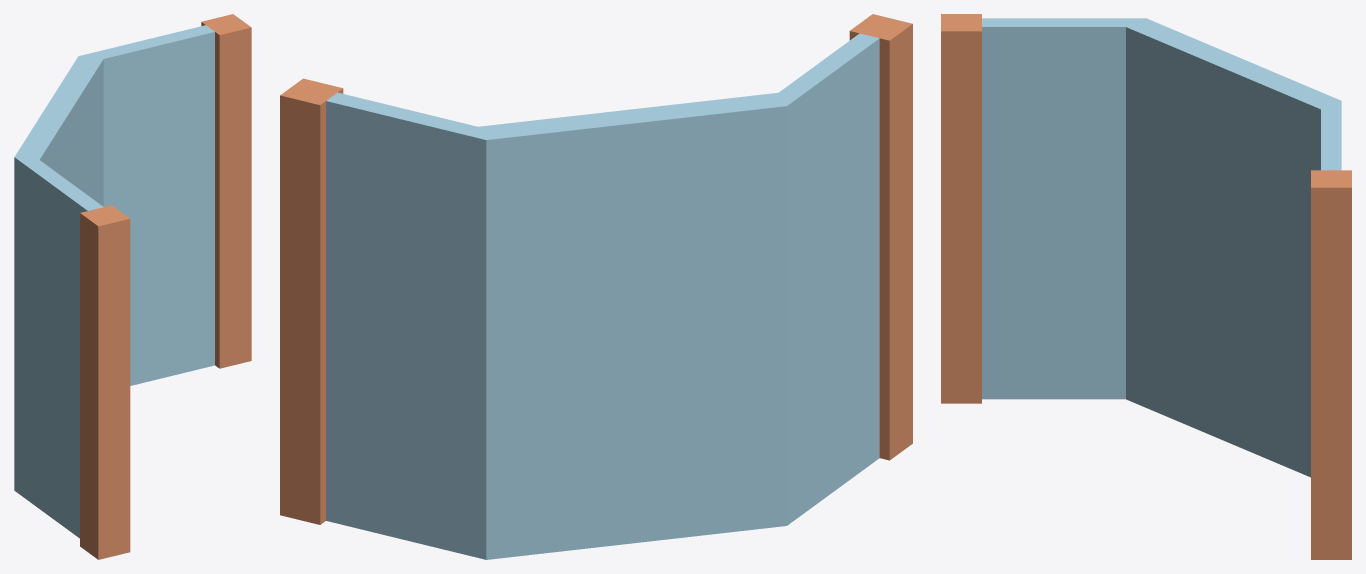
Rendered from wallCornerDiagonal.glb.
3 views of the same model, side by side, from view 1: azimuth 30°, elevation 25°; view 2: azimuth 150°, elevation 25°; view 3: azimuth 270°, elevation 25° (orthographic). The views are drawn at different scales.
Parts seen in each view (by area): view 1: wallCornerDiagonal; view 2: wallCornerDiagonal; view 3: wallCornerDiagonal.
Boxes of the visible parts, x1,y1,x2,y2 form: wallCornerDiagonal: (14,14,251,559); wallCornerDiagonal: (280,14,912,559); wallCornerDiagonal: (941,14,1351,559).
Size of the model in its own units: 1 by 1 by 1.
